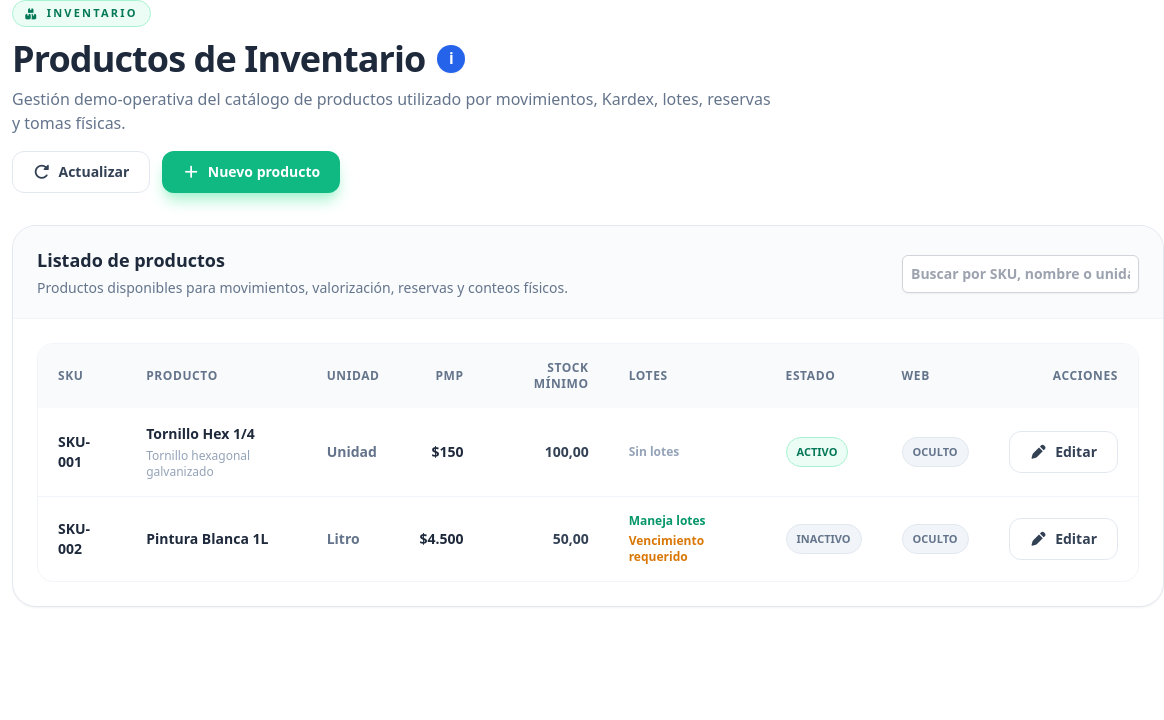
Test case: ProductosInventario — formulario de alta › muestra el formulario al pulsar "Nuevo producto"
This screenshot has width=1164, height=720.
Click the button "Nuevo producto" at (251, 172), box [162,151,340,193]
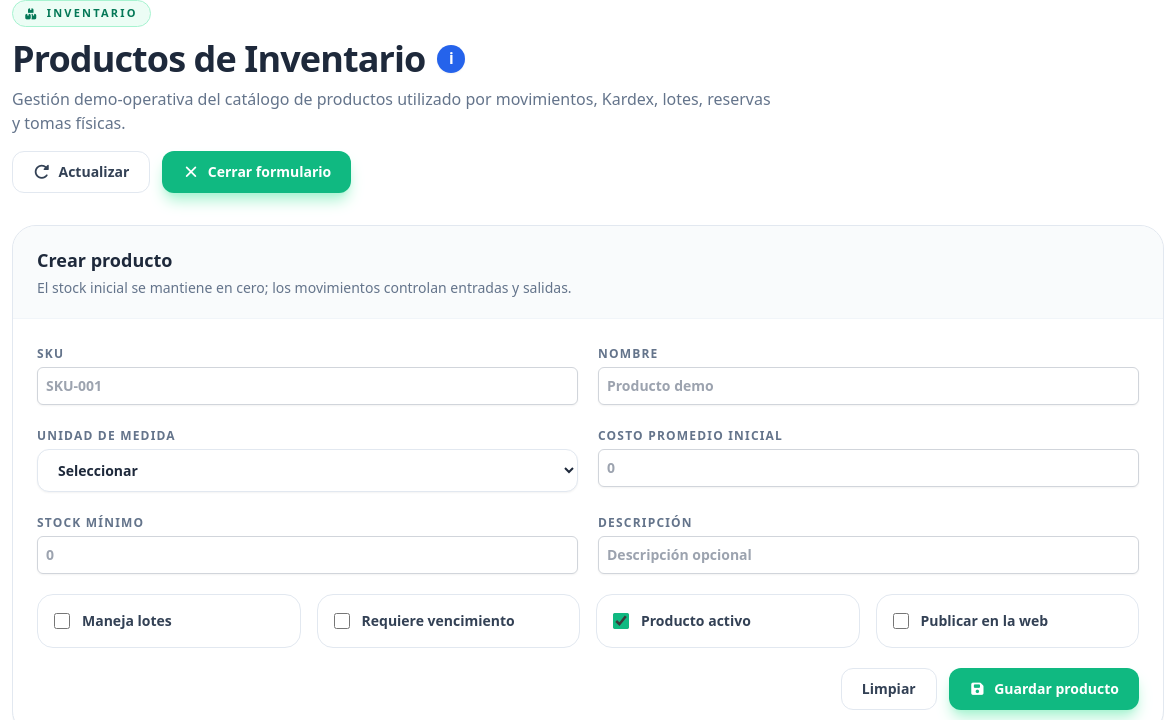
expect the heading "Crear producto" is shown: met, box [37,248,172,272]
